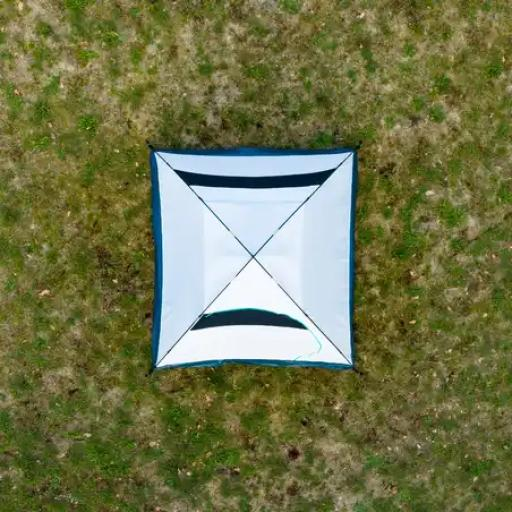tent: (152, 140, 368, 396)
